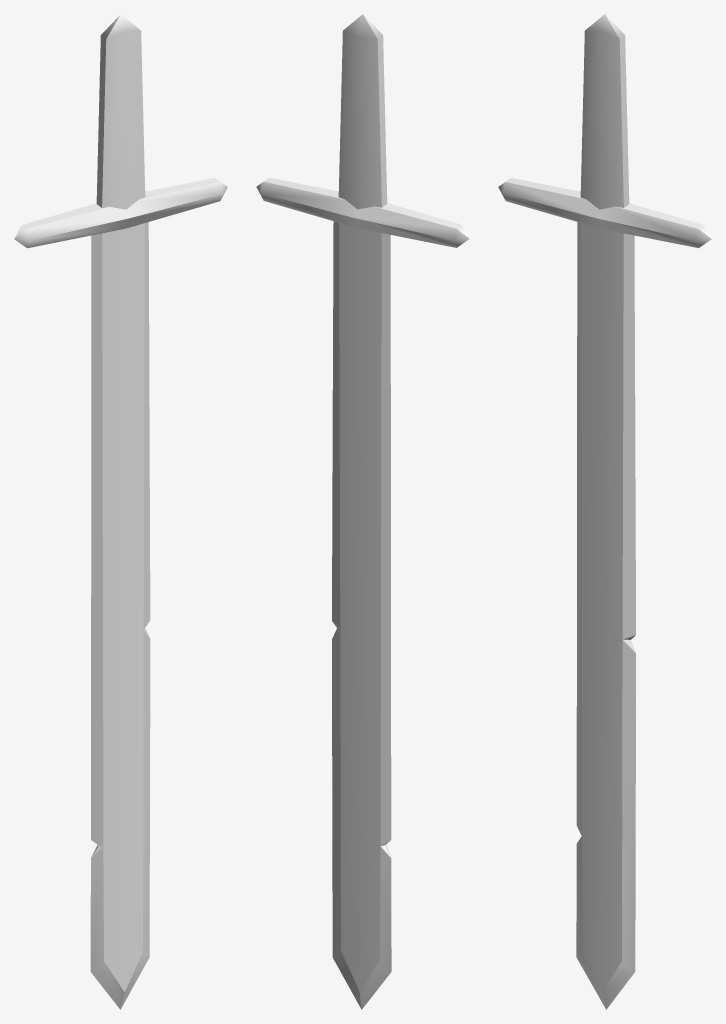
Rendered from espada.fbx.
3 views of the same model, side by side, from view 1: azimuth 30°, elevation 25°; view 2: azimuth 150°, elevation 25°; view 3: azimuth 330°, elevation 25° (orthographic).
Parts seen in each view (by area): view 1: PT_Sword_01_a; view 2: PT_Sword_01_a; view 3: PT_Sword_01_a.
Boxes of the visible parts, left/top/right/bottom form: PT_Sword_01_a: left=14, top=14, right=227, bottom=1009; PT_Sword_01_a: left=256, top=14, right=469, bottom=1009; PT_Sword_01_a: left=498, top=14, right=711, bottom=1009.
Size of the model in its own units: 18.08 by 80.53 by 2.2.
